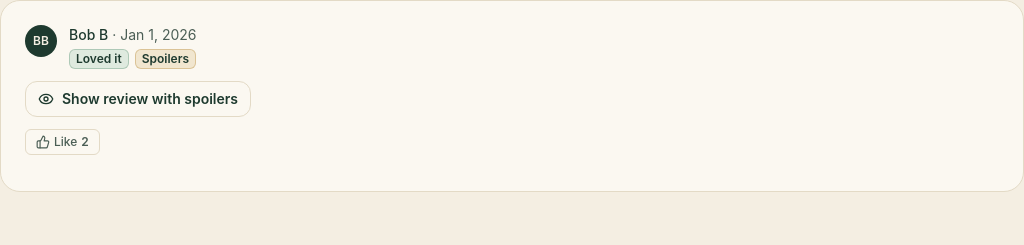
ReviewCard › hides spoilers from other members until revealed and hides owner controls
The width and height of the screenshot is (1024, 245).
Expected: the text "Loved it" is shown, top-left (69, 49), bottom-right (129, 69)
Expected: the text "The spice must flow." is not shown
Click the button "Show review with spoilers" at (138, 99), box top-left (25, 81), bottom-right (251, 117)
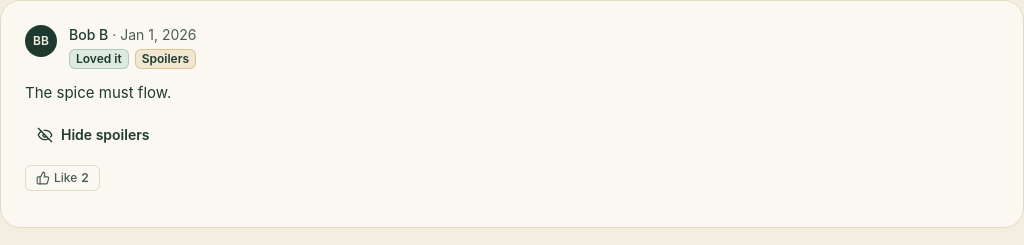
Result: the text "The spice must flow." is shown at top-left (25, 83), bottom-right (171, 102)
